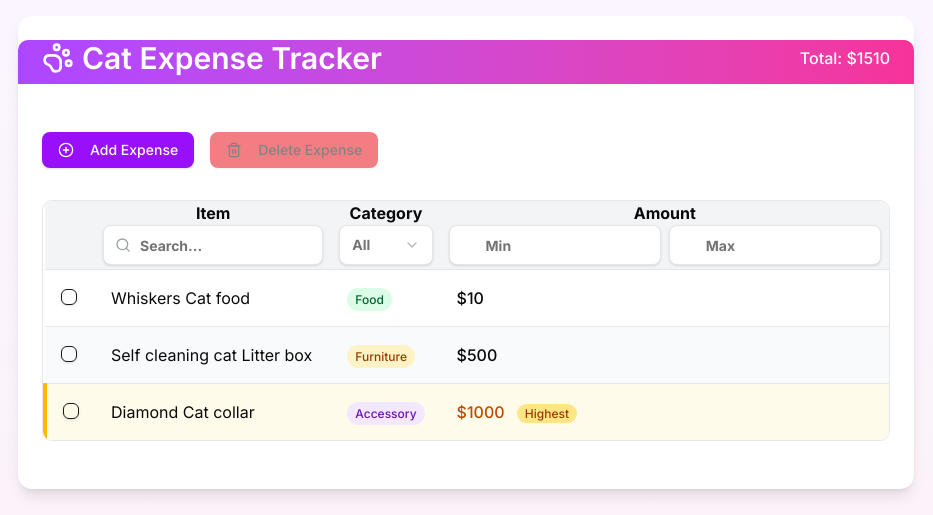
Scenario: Page component › deletes selected expenses
The image size is (933, 515).
Select the expense
Click the checkbox next to "Whiskers Cat food": (69, 297) [61, 289, 77, 305]
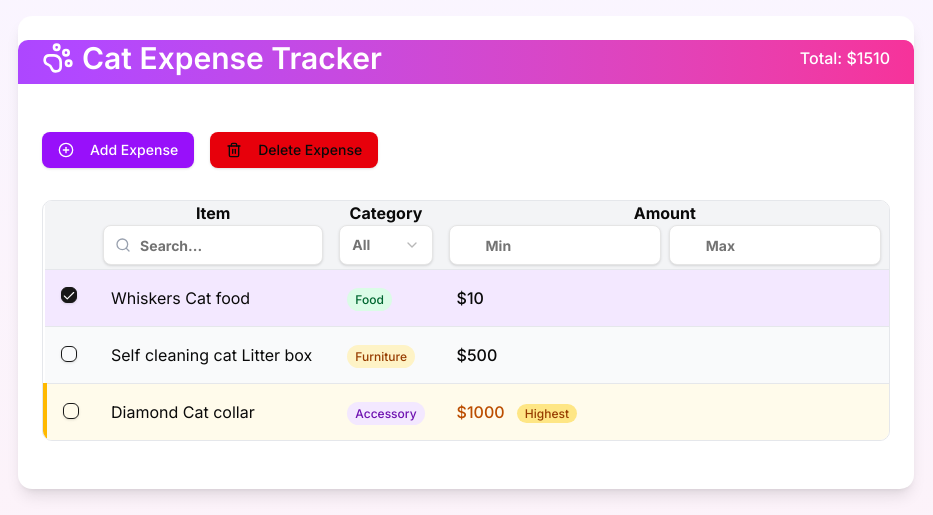
Delete selected expense
Click the button "Delete Expense": (294, 150) [210, 132, 378, 168]
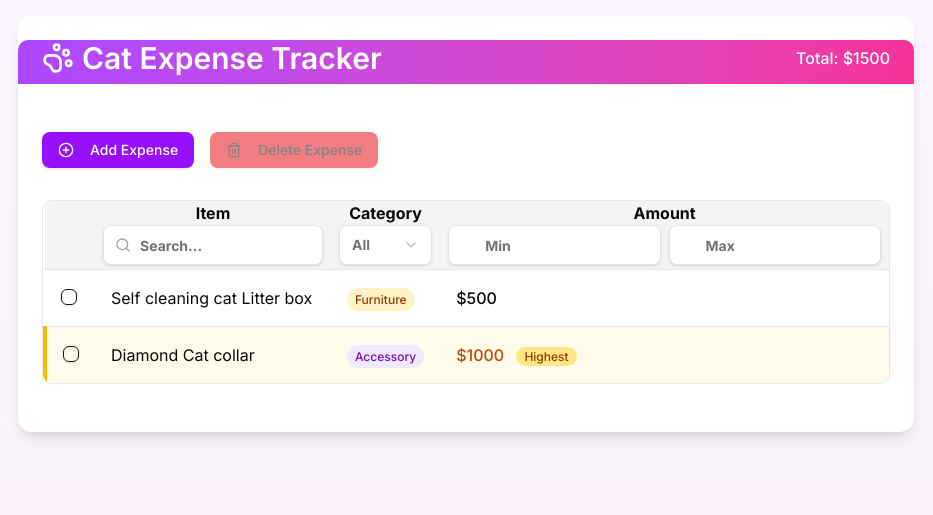
expect the text "Whiskers Cat food" is gone: met
expect the text "Total: $1500" is shown: met, box [796, 46, 890, 70]
